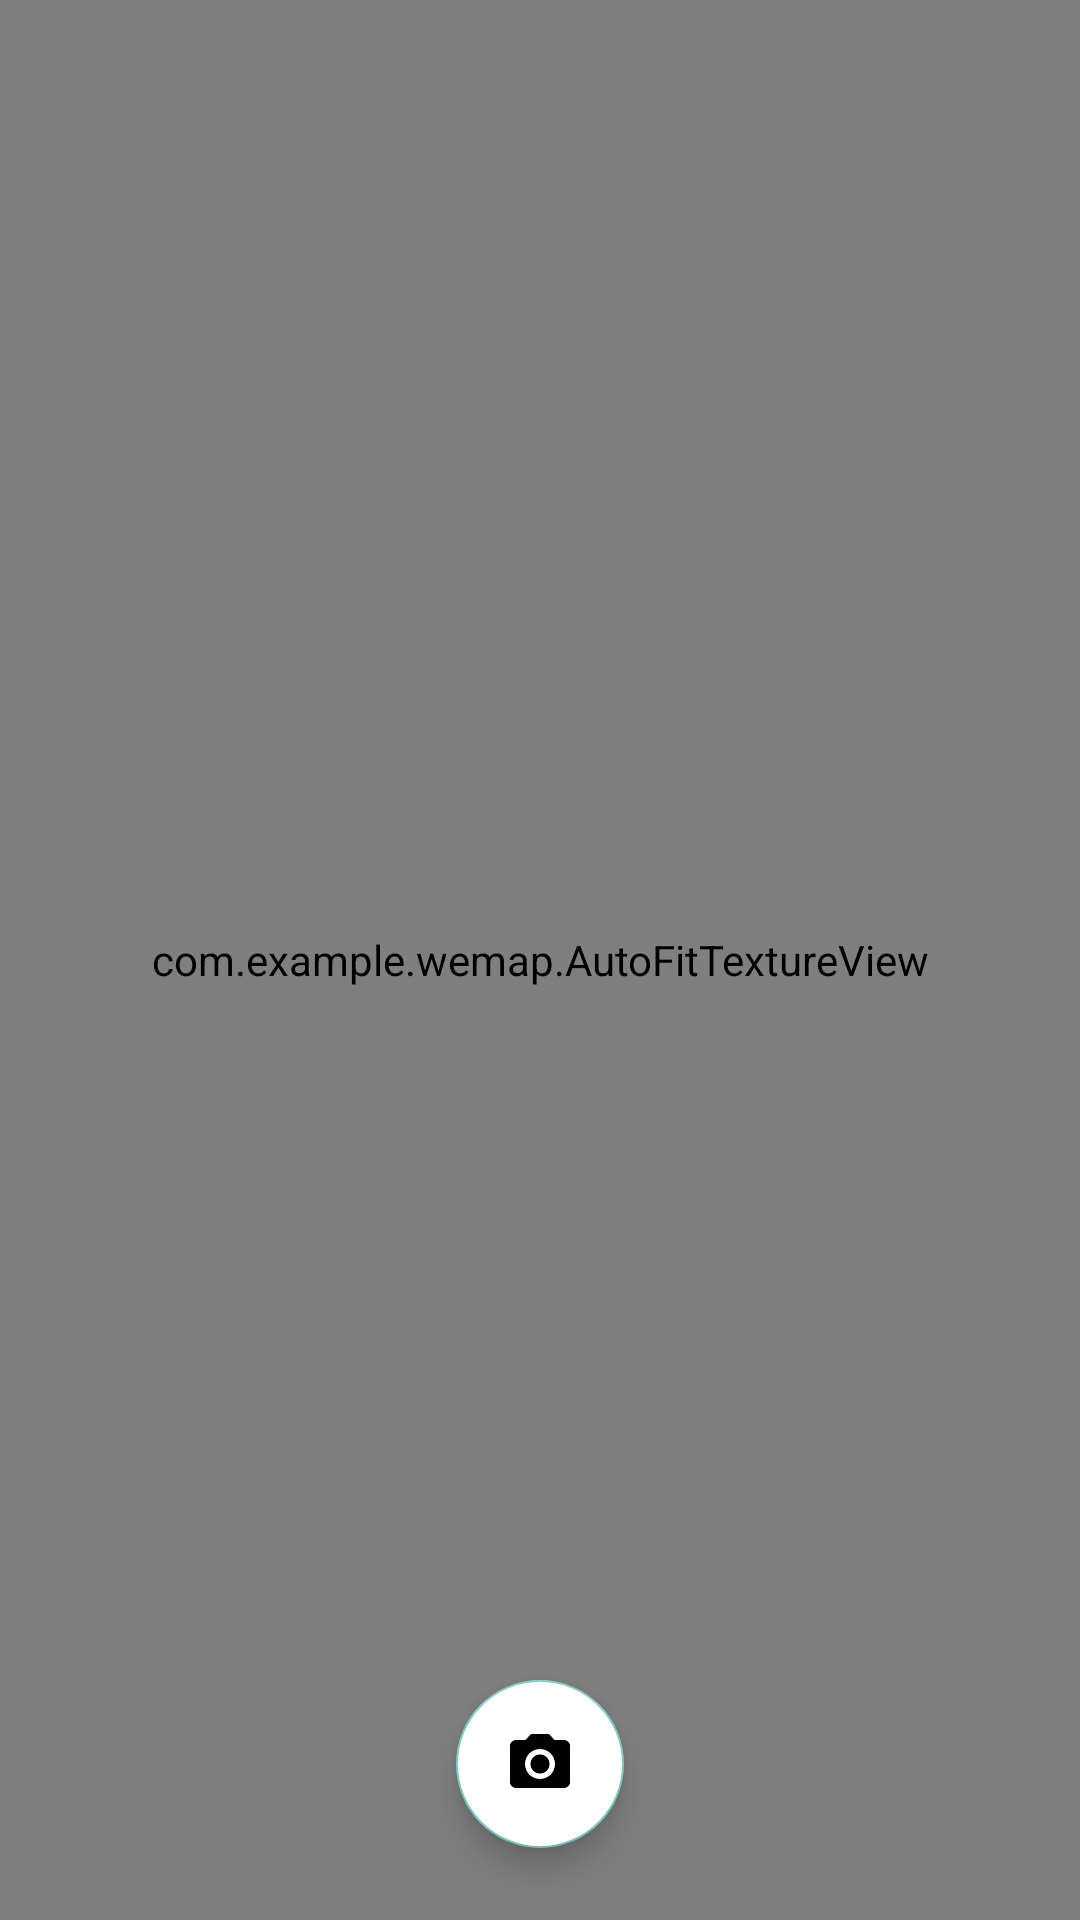

Icon bounding boxes for this 1080×1920 phone screenshot, format (x1, y1, x2, y2):
photo camera: (456, 1680, 624, 1848)
